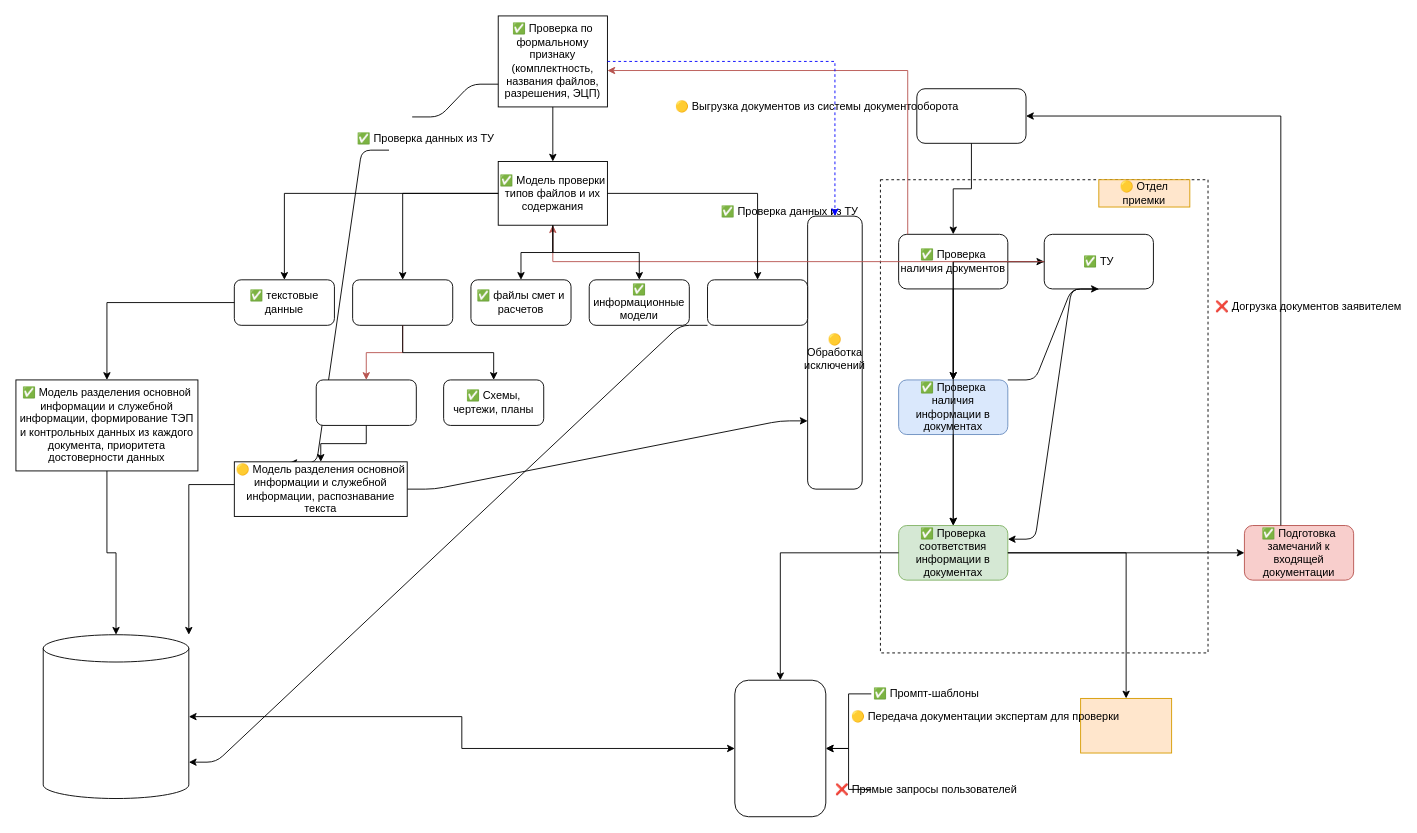
This 1417x833 diagram has some shape labels left out. The shapes that lost their labels are listed below. From the top down, each one's box as (x1, y1, x2, y2) in pixels, then its label:
(916, 88, 1026, 143): 🟡 Входящие документы
(352, 279, 453, 325): ✅ графическая информация
(707, 279, 808, 325): ✅ машиночитаемые файлы (XML, JSON)
(315, 379, 416, 425): ✅ Сканированные документы
(42, 634, 189, 799): ✅ Формирование записи в векторной БД с информацией о проекте и файлах
(1080, 698, 1172, 753): 🟡 Инженерно- технические отделы
(734, 679, 826, 817): ✅ Языковая модель (LLM)
